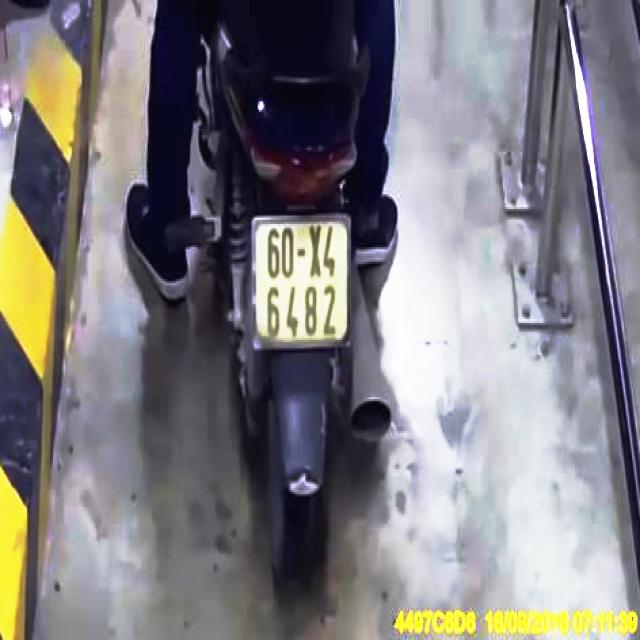license_plate: (256, 219, 352, 346)
